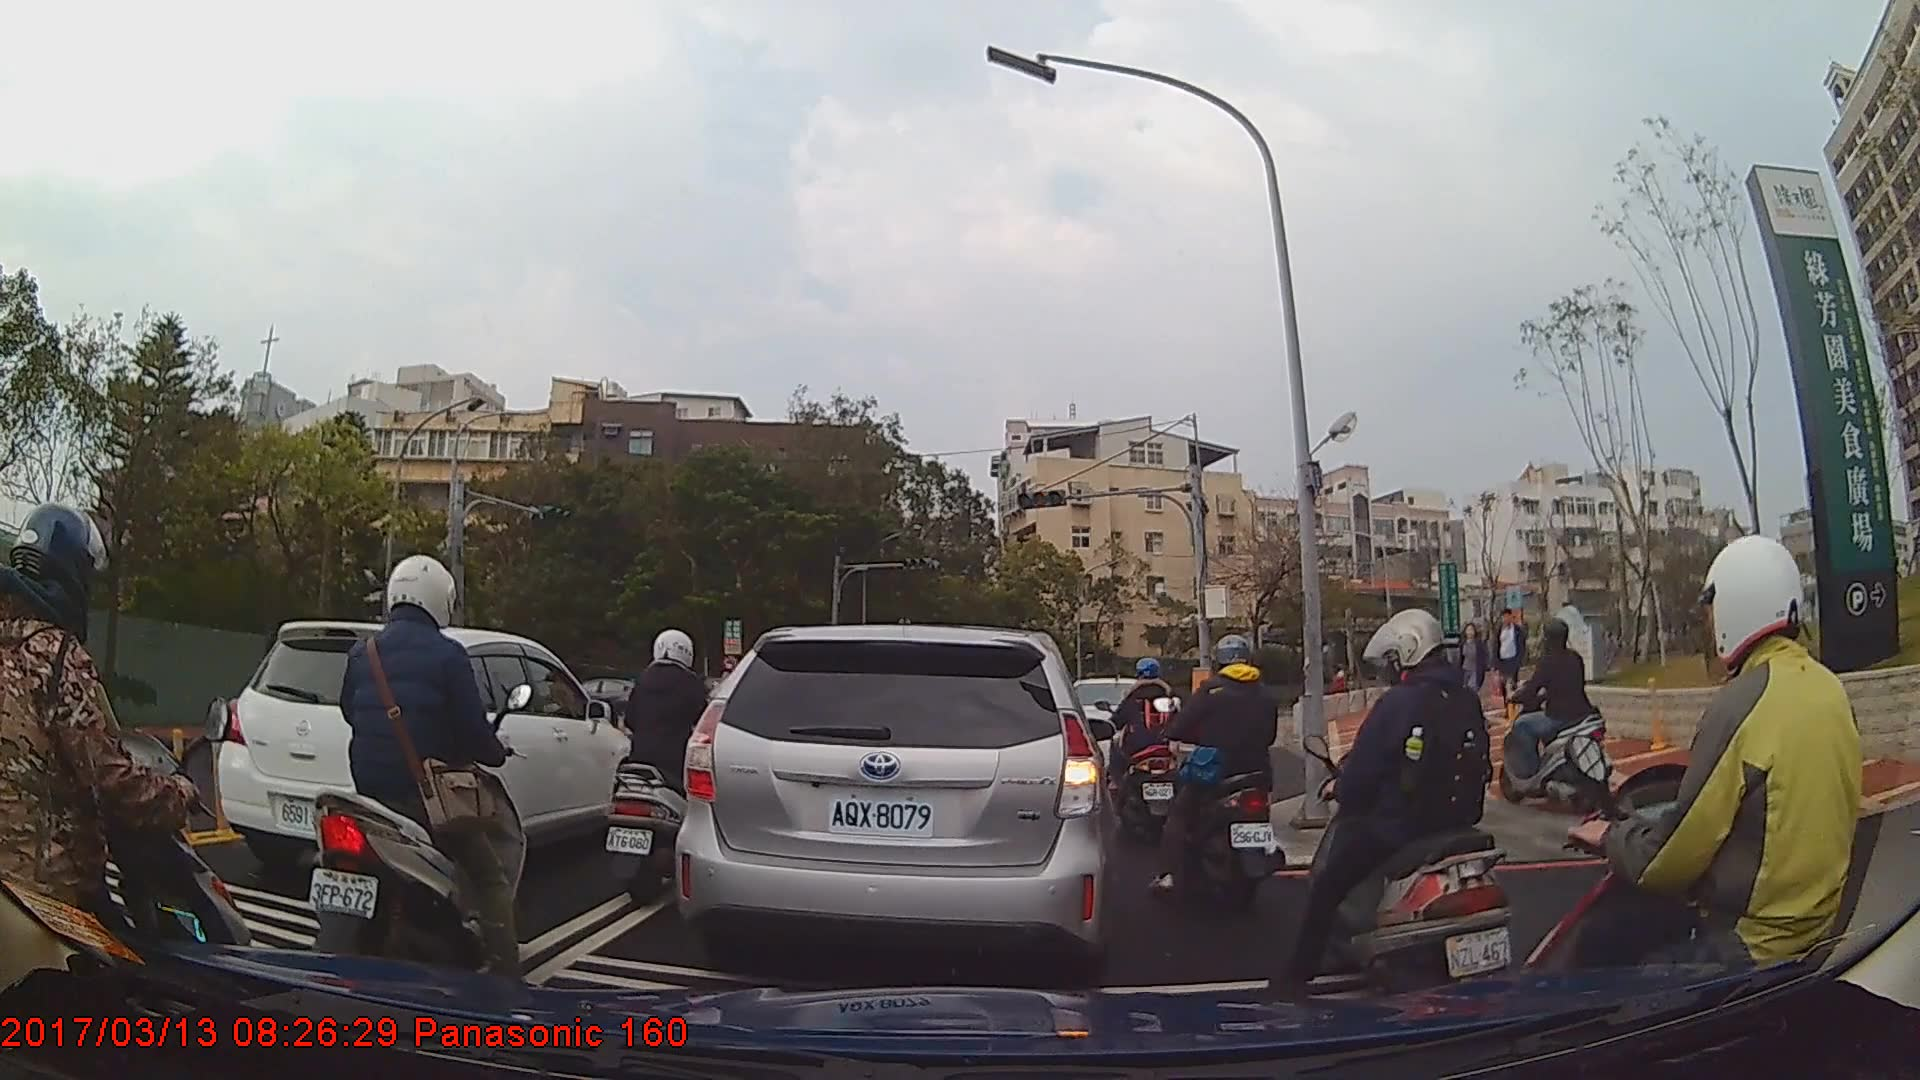pedestrian: (1488, 610, 1531, 722), (1457, 625, 1492, 721)
rider: (1506, 536, 1892, 1080), (1, 499, 260, 1053), (302, 547, 529, 999), (1280, 608, 1524, 1014), (604, 628, 744, 914), (1154, 636, 1289, 910), (1493, 618, 1614, 817), (1096, 654, 1186, 848)
vehicle: (669, 625, 1114, 984), (216, 619, 636, 884), (1059, 676, 1164, 784), (559, 678, 648, 726)
